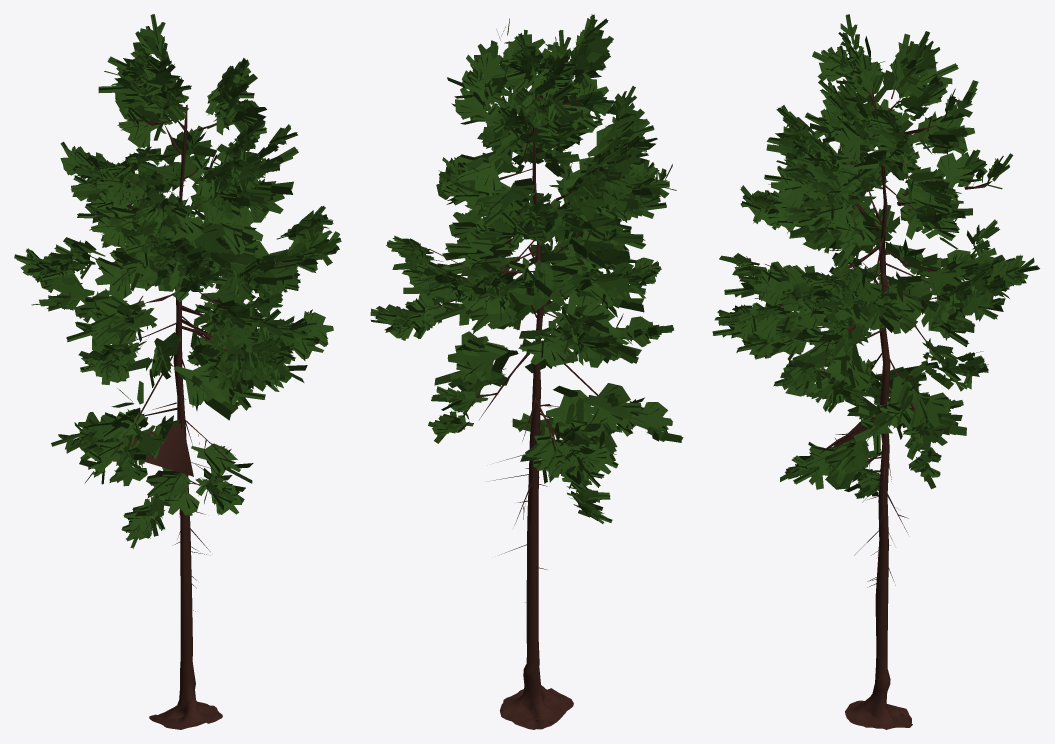
The model's file is fir_b_distant.obj.
3 views of the same model, side by side, from view 1: azimuth 30°, elevation 25°; view 2: azimuth 150°, elevation 25°; view 3: azimuth 270°, elevation 25° (orthographic). The views are drawn at different scales.
Visible parts, largest first — view 1: fir_b_distant; view 2: fir_b_distant; view 3: fir_b_distant.
Boxes of the visible parts, bbox=[...] form: fir_b_distant: bbox=[14, 14, 341, 729]; fir_b_distant: bbox=[370, 14, 683, 729]; fir_b_distant: bbox=[712, 14, 1039, 729].
Bounding box in the file's own units: 222 × 554 × 240.
